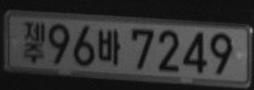2: (156, 29, 179, 72)
4: (182, 31, 208, 74)
6: (72, 25, 95, 66)
7: (130, 28, 154, 70)
9: (47, 22, 70, 65), (210, 32, 233, 74)
바: (97, 28, 121, 66)
제주_V: (22, 21, 45, 65)
